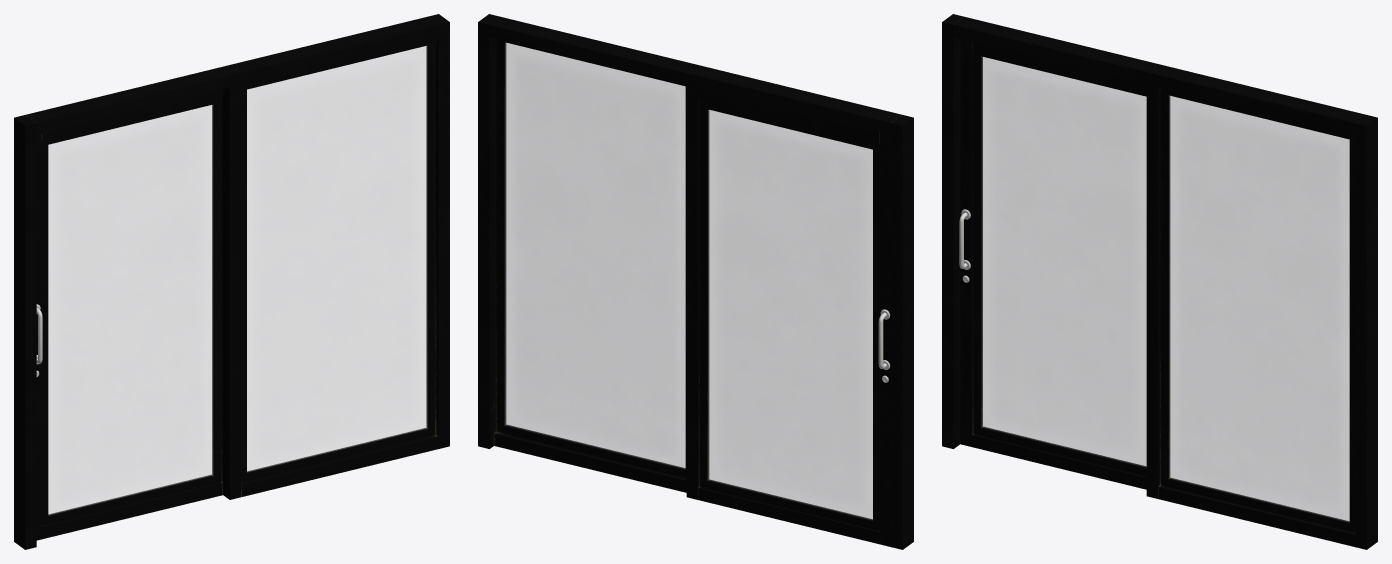
File: Window_with_sliding_door_01.glb
3 views of the same model, side by side, from view 1: azimuth 30°, elevation 25°; view 2: azimuth 150°, elevation 25°; view 3: azimuth 330°, elevation 25° (orthographic).
Parts seen in each view (by area): view 1: Window with sliding door 220x10x210, Sliding door; view 2: Window with sliding door 220x10x210, Sliding door; view 3: Window with sliding door 220x10x210, Sliding door.
Boxes of the visible parts, x1,y1,x2,y2 form: Window with sliding door 220x10x210: [14, 14, 449, 549]; Sliding door: [36, 89, 223, 540]; Window with sliding door 220x10x210: [478, 14, 913, 549]; Sliding door: [686, 85, 891, 546]; Window with sliding door 220x10x210: [942, 14, 1377, 549]; Sliding door: [960, 38, 1146, 489].
Bounding box in the file's own units: 2.2 × 2.1 × 0.15.
Materials: 1 (1 with a texture image).
